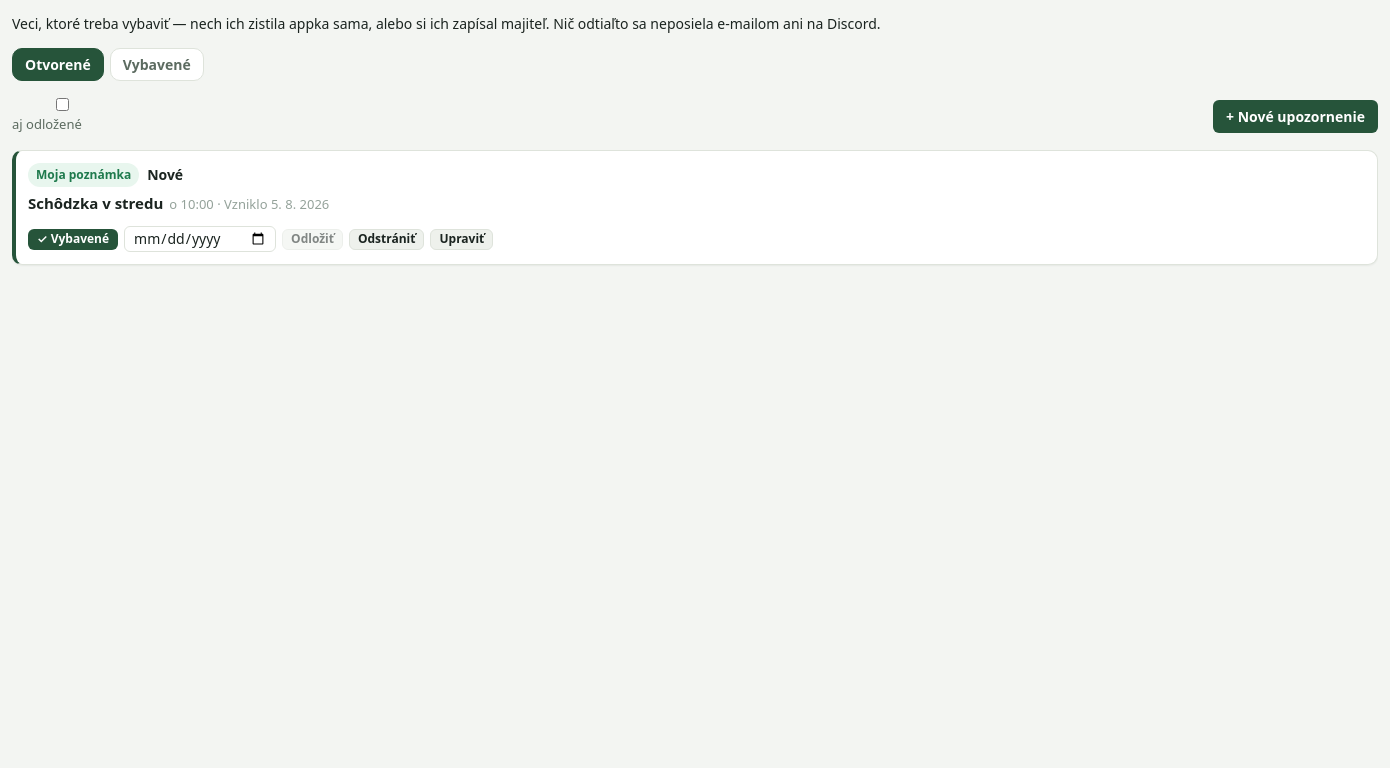
it: Upraviť predvyplní formulár existujúcimi hodnotami vlastnej poznámky
The image size is (1390, 768).
Expected: the element with test id "upozornenie-own-1" is shown, [12,150,1378,265]
Step 1. Click the button with test id "upozornenie-edit-own-1" → (462, 239), box [430,229,493,250]
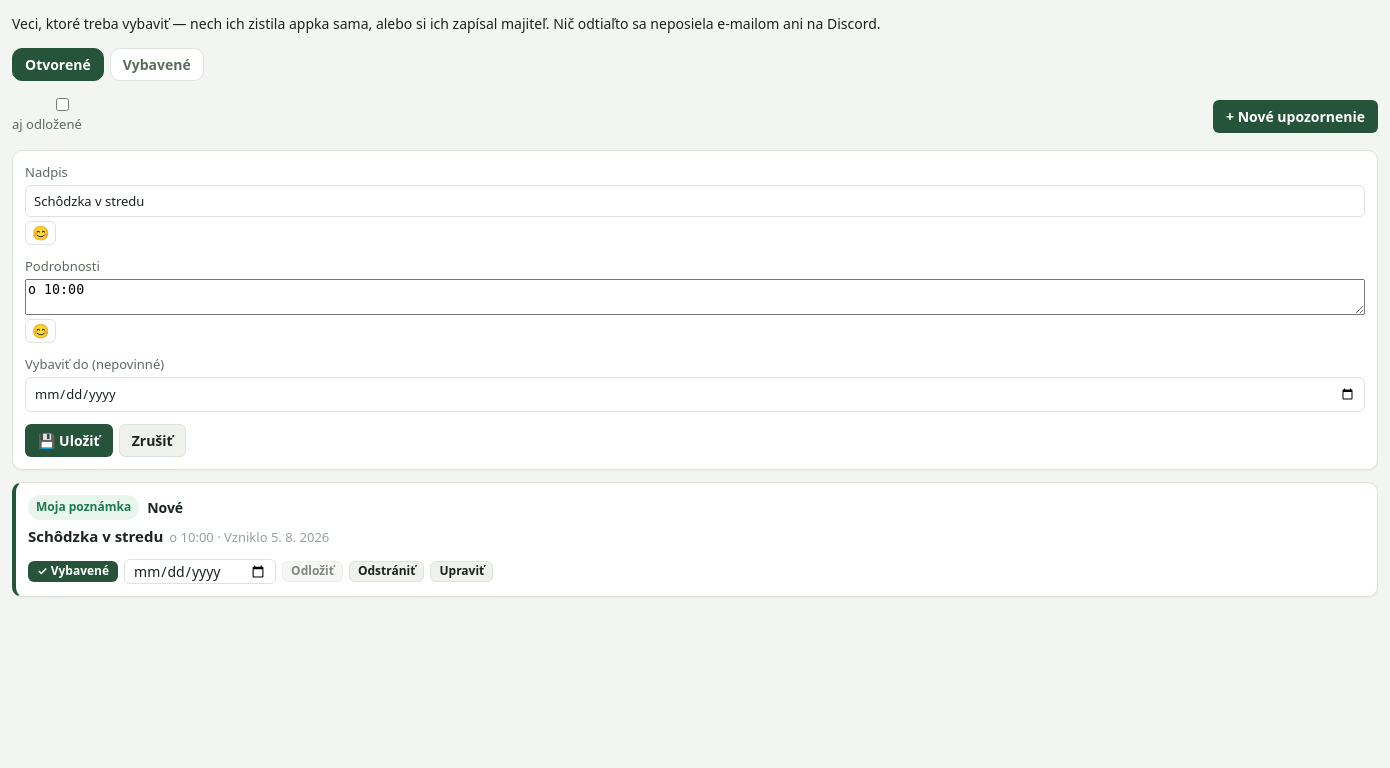
Expected: the field with test id "upozornenie-form-title" holds "Schôdzka v stredu", [25,185,1365,217]
Expected: the text box with test id "upozornenie-form-details" holds "o 10:00", [25,279,1365,315]
